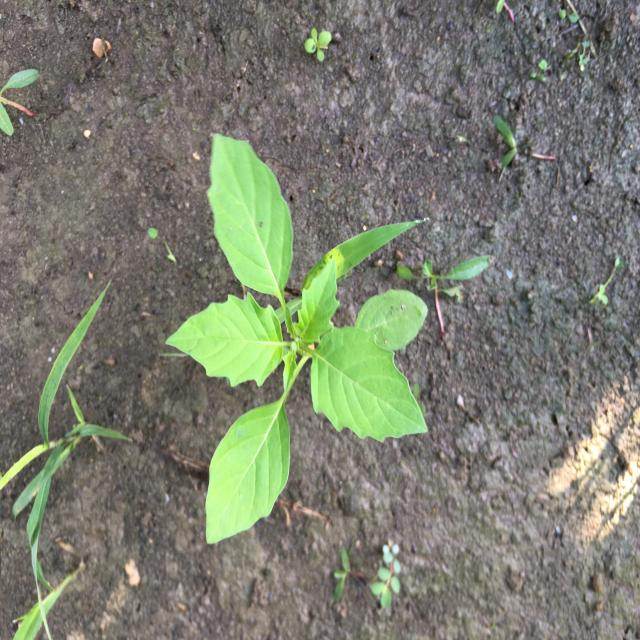CutleafGroundcherry: (160, 129, 432, 548)
Waterhemp: (0, 67, 40, 137)
